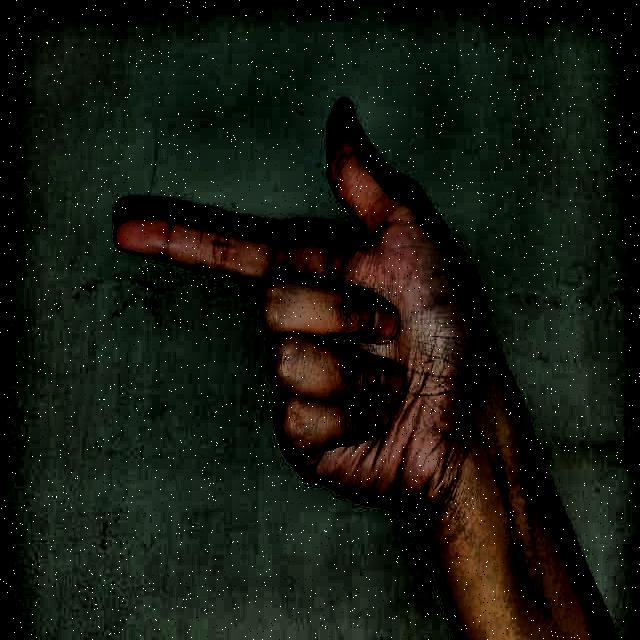Tho: (90, 61, 580, 548)
